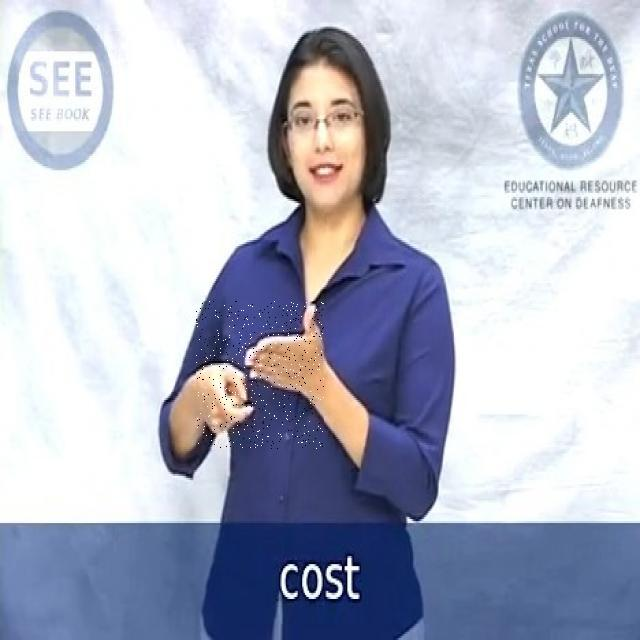cost: (196, 302, 324, 449)
